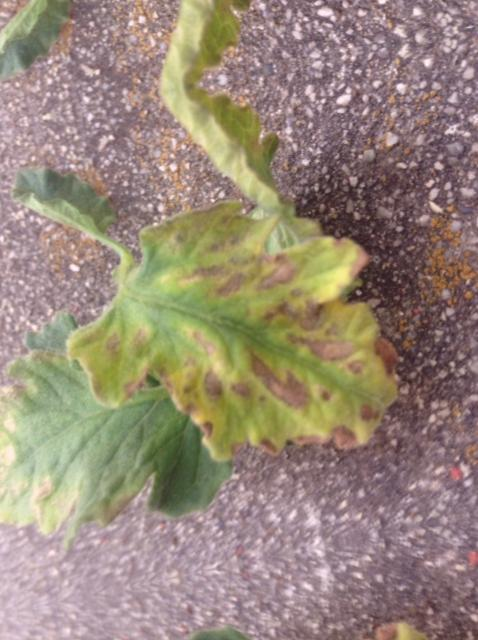Tomato mold leaf: (43, 157, 437, 502)
